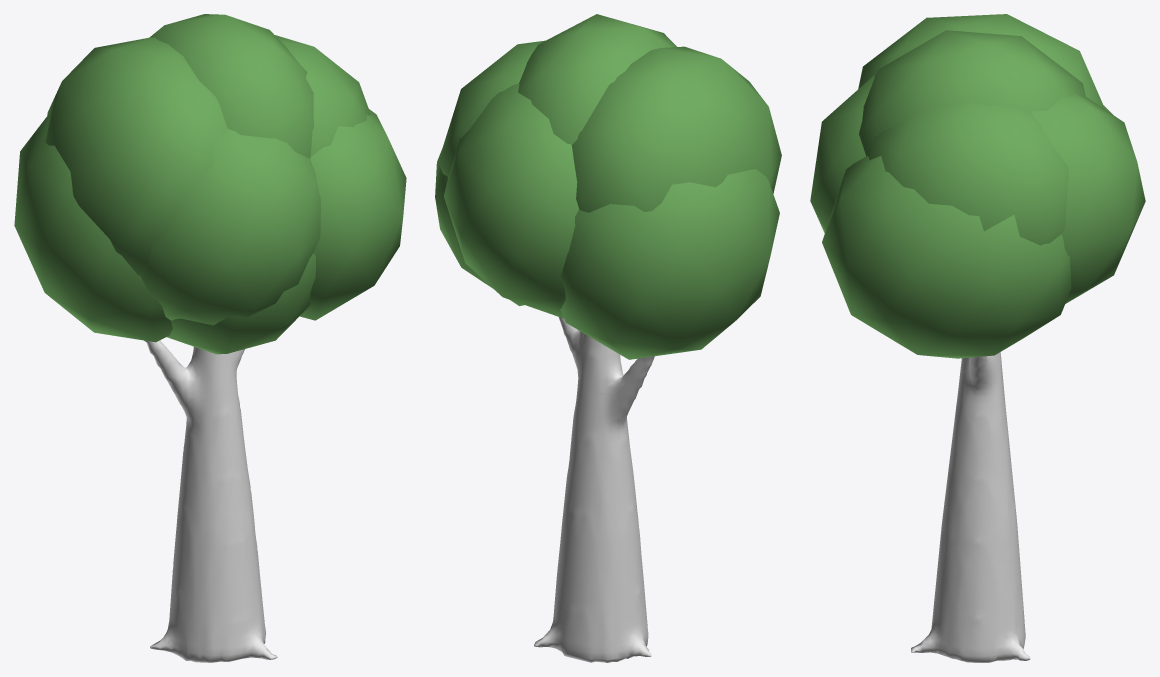
The model's file is NaturalTree_03_Tall.fbx.
3 views of the same model, side by side, from view 1: azimuth 30°, elevation 25°; view 2: azimuth 150°, elevation 25°; view 3: azimuth 270°, elevation 25° (orthographic). The views are drawn at different scales.
Parts seen in each view (by area): view 1: Foliage_01.002, Trunk.002, Foliage_03.002, Foliage_05.002, Foliage_06.002, Foliage_00.002, Foliage_07.002, Foliage_02.002; view 2: Foliage_05.002, Foliage_01.002, Trunk.002, Foliage_04.002, Foliage_00.002, Foliage_02.002, Foliage_06.002; view 3: Foliage_06.002, Trunk.002, Foliage_02.002, Foliage_00.002, Foliage_04.002, Foliage_01.002, Foliage_03.002.
Part boxes in pixels (x1,y1,x2,y2): Foliage_01.002: (45, 37, 227, 276); Trunk.002: (144, 340, 277, 662); Foliage_03.002: (141, 129, 320, 325); Foliage_05.002: (14, 112, 172, 342); Foliage_06.002: (299, 109, 406, 320); Foliage_00.002: (149, 14, 314, 158); Foliage_07.002: (167, 253, 315, 354); Foliage_02.002: (275, 35, 370, 157); Foliage_05.002: (560, 169, 779, 359); Foliage_01.002: (572, 46, 781, 212); Trunk.002: (534, 317, 654, 662); Foliage_04.002: (444, 83, 578, 318); Foliage_00.002: (518, 14, 676, 145); Foliage_02.002: (438, 40, 545, 176); Foliage_06.002: (435, 150, 524, 305); Foliage_06.002: (822, 156, 1071, 358); Trunk.002: (911, 352, 1030, 662); Foliage_02.002: (867, 102, 1069, 245); Foliage_00.002: (859, 30, 1085, 156); Foliage_04.002: (1031, 93, 1145, 303); Foliage_01.002: (858, 14, 1105, 109); Foliage_03.002: (810, 75, 874, 233).
Bounding box in the file's own units: 1.79 × 3.19 × 1.59.
